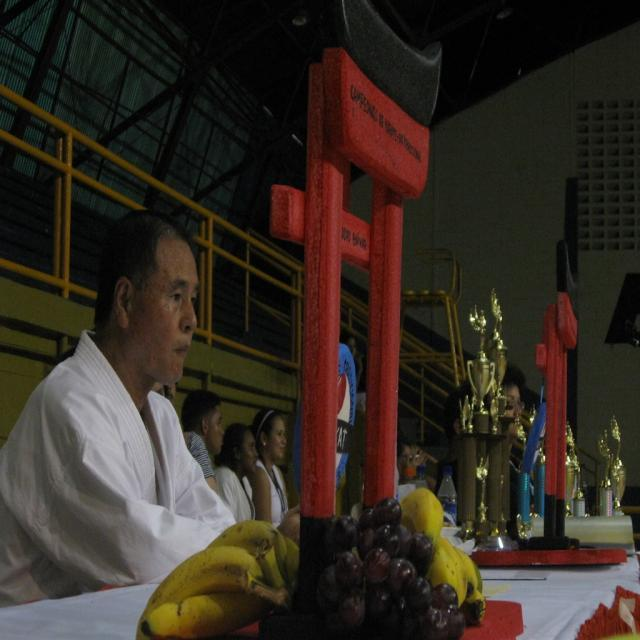Banana: (118, 485, 306, 625), (141, 588, 261, 640), (206, 520, 288, 586), (398, 485, 447, 551), (434, 539, 467, 608), (455, 549, 483, 620), (424, 540, 458, 592), (284, 529, 300, 593)
